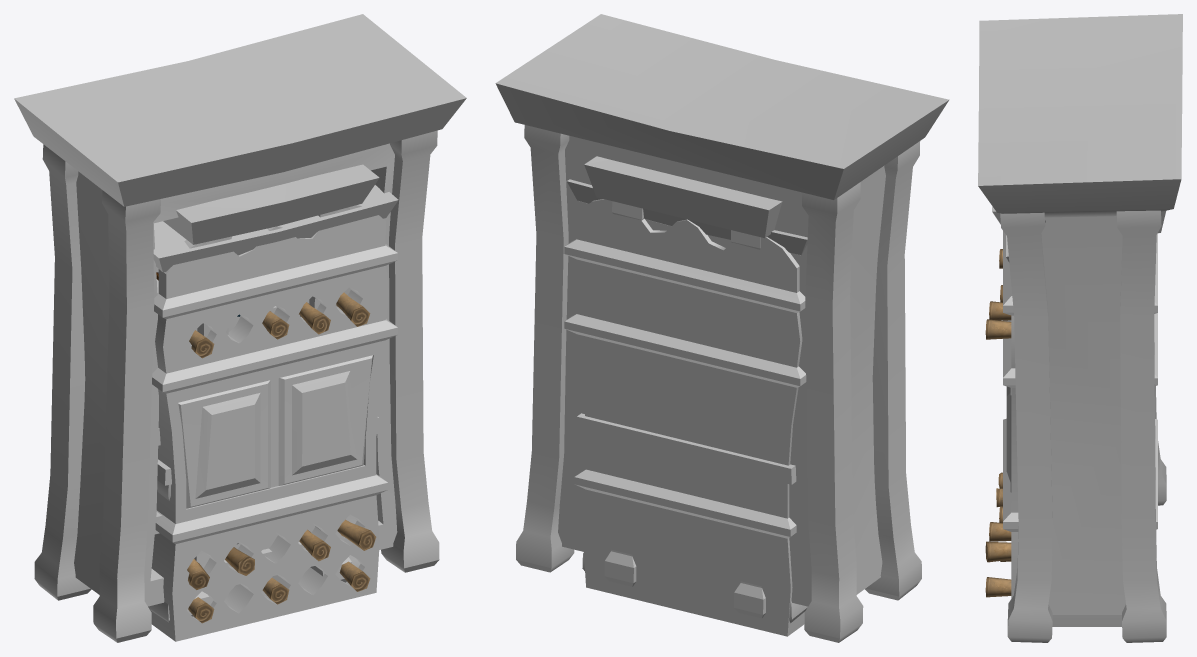
File: wooden_shelf.fbx
3 renders of one model, left to right at view 1: azimuth 30°, elevation 25°; view 2: azimuth 150°, elevation 25°; view 3: azimuth 270°, elevation 25°, orthographic. The views are drawn at different scales.
Visible parts, largest first — view 1: wooden_shelf_04, wooden_shelf_03, wooden_shelf_05, wooden_shelf_01; view 2: wooden_shelf_04, wooden_shelf_03, wooden_shelf_05, wooden_shelf_01; view 3: wooden_shelf_04, wooden_shelf_03.
Part boxes in pixels (x1,y1,x2,y2): wooden_shelf_04: (14,14,466,642); wooden_shelf_03: (148,204,397,641); wooden_shelf_05: (163,164,379,617); wooden_shelf_01: (148,185,398,622); wooden_shelf_04: (495,14,949,642); wooden_shelf_03: (564,199,806,636); wooden_shelf_05: (584,156,782,618); wooden_shelf_01: (566,179,807,623); wooden_shelf_04: (978,14,1182,642); wooden_shelf_03: (985,231,1157,626).
Size of the model in its own units: 3499 by 1831 by 4761.
